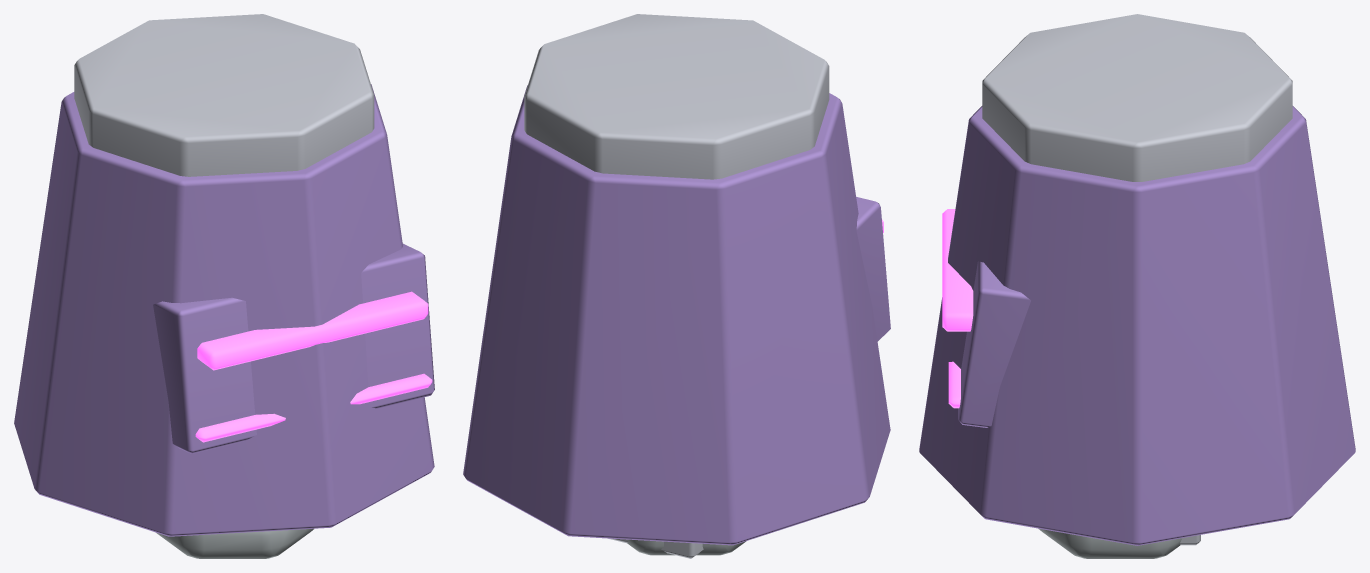
Rendered from silksteel_head_gauze.glb.
3 views of the same model, side by side, from view 1: azimuth 30°, elevation 25°; view 2: azimuth 150°, elevation 25°; view 3: azimuth 270°, elevation 25° (orthographic).
Parts seen in each view (by area): view 1: silksteel_head_gauze; view 2: silksteel_head_gauze; view 3: silksteel_head_gauze.
Part boxes in pixels (<box>): silksteel_head_gauze: <box>14,14,434,558</box>; silksteel_head_gauze: <box>463,14,890,558</box>; silksteel_head_gauze: <box>919,14,1355,558</box>.
Bounding box in the file's own units: 0.5138 × 0.59 × 0.5138.
Materials: 1 (1 with a texture image).
